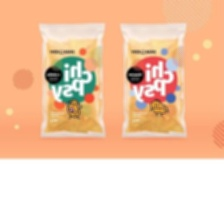snack: (33, 18, 111, 143), (116, 18, 191, 141)
